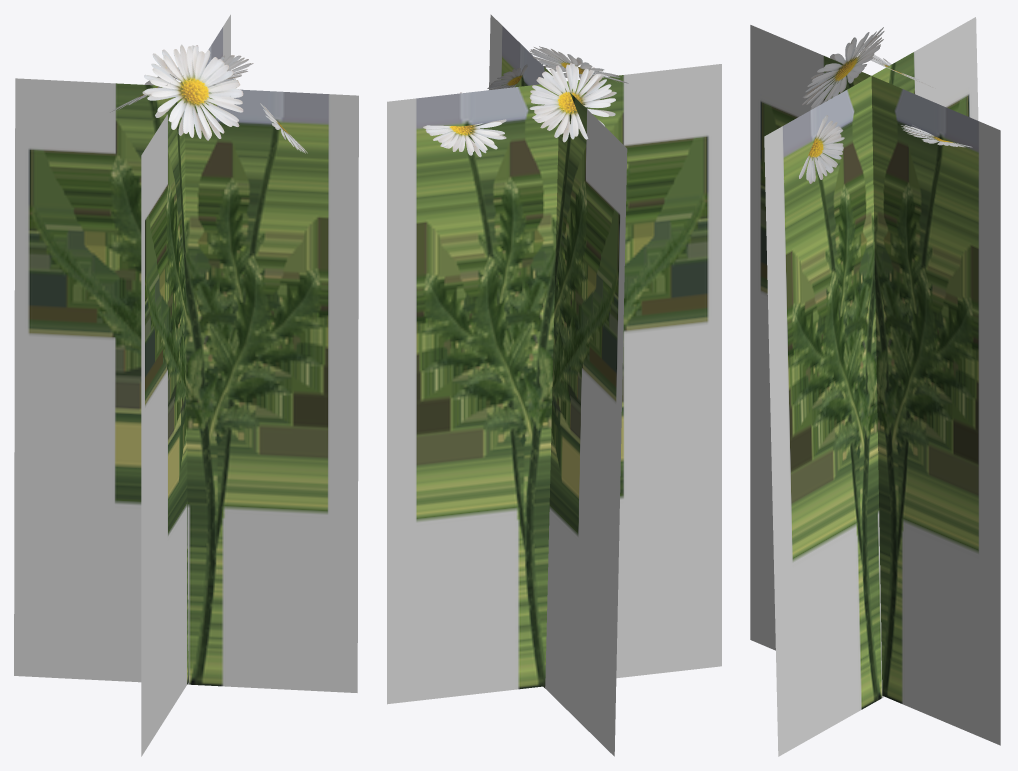
The model's file is daisy.glb.
3 renders of one model, left to right at view 1: azimuth 30°, elevation 25°; view 2: azimuth 150°, elevation 25°; view 3: azimuth 270°, elevation 25°, orthographic. The views are drawn at different scales.
Visible parts, largest first — view 1: daisy-flower-diffuse-02_daisy-stem-diffuse_0, daisy-flower-diffuse-02_daisy-flower-diffuse_0; view 2: daisy-flower-diffuse-02_daisy-stem-diffuse_0, daisy-flower-diffuse-02_daisy-flower-diffuse_0; view 3: daisy-flower-diffuse-02_daisy-stem-diffuse_0, daisy-flower-diffuse-02_daisy-flower-diffuse_0.
Part boxes in pixels (x1,y1,x2,y2): daisy-flower-diffuse-02_daisy-stem-diffuse_0: (14,14,358,756); daisy-flower-diffuse-02_daisy-flower-diffuse_0: (110,44,307,153); daisy-flower-diffuse-02_daisy-stem-diffuse_0: (387,14,721,756); daisy-flower-diffuse-02_daisy-flower-diffuse_0: (423,46,628,157); daisy-flower-diffuse-02_daisy-stem-diffuse_0: (750,17,1000,756); daisy-flower-diffuse-02_daisy-flower-diffuse_0: (799,27,972,183).
Size of the model in its own units: 0.2964 by 0.7413 by 0.2585.
2 materials, 2 textured.
